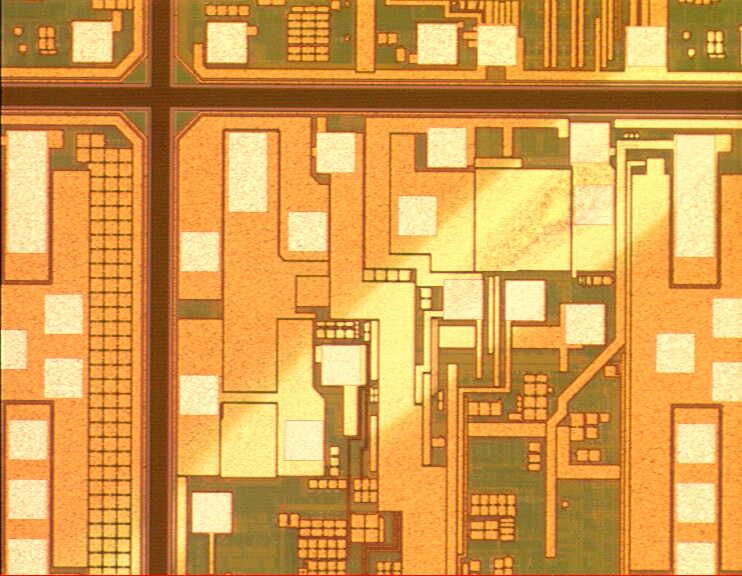BLOCK ETCH: (70, 1, 742, 576)
